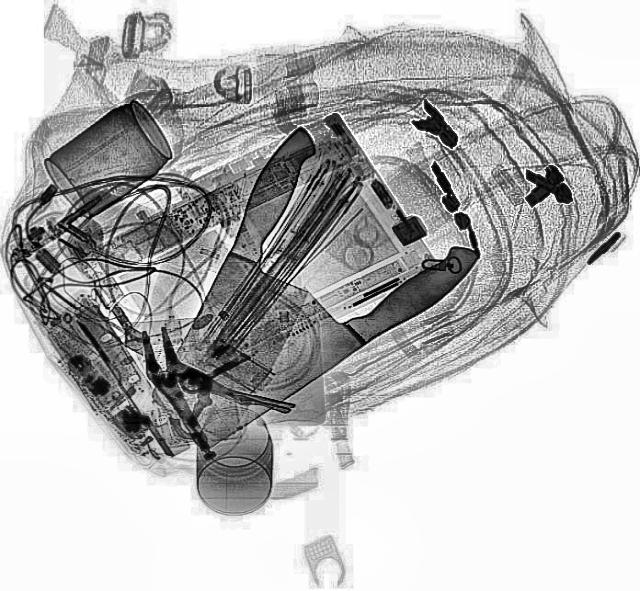Knife: (143, 198, 487, 454), (138, 120, 382, 443)
